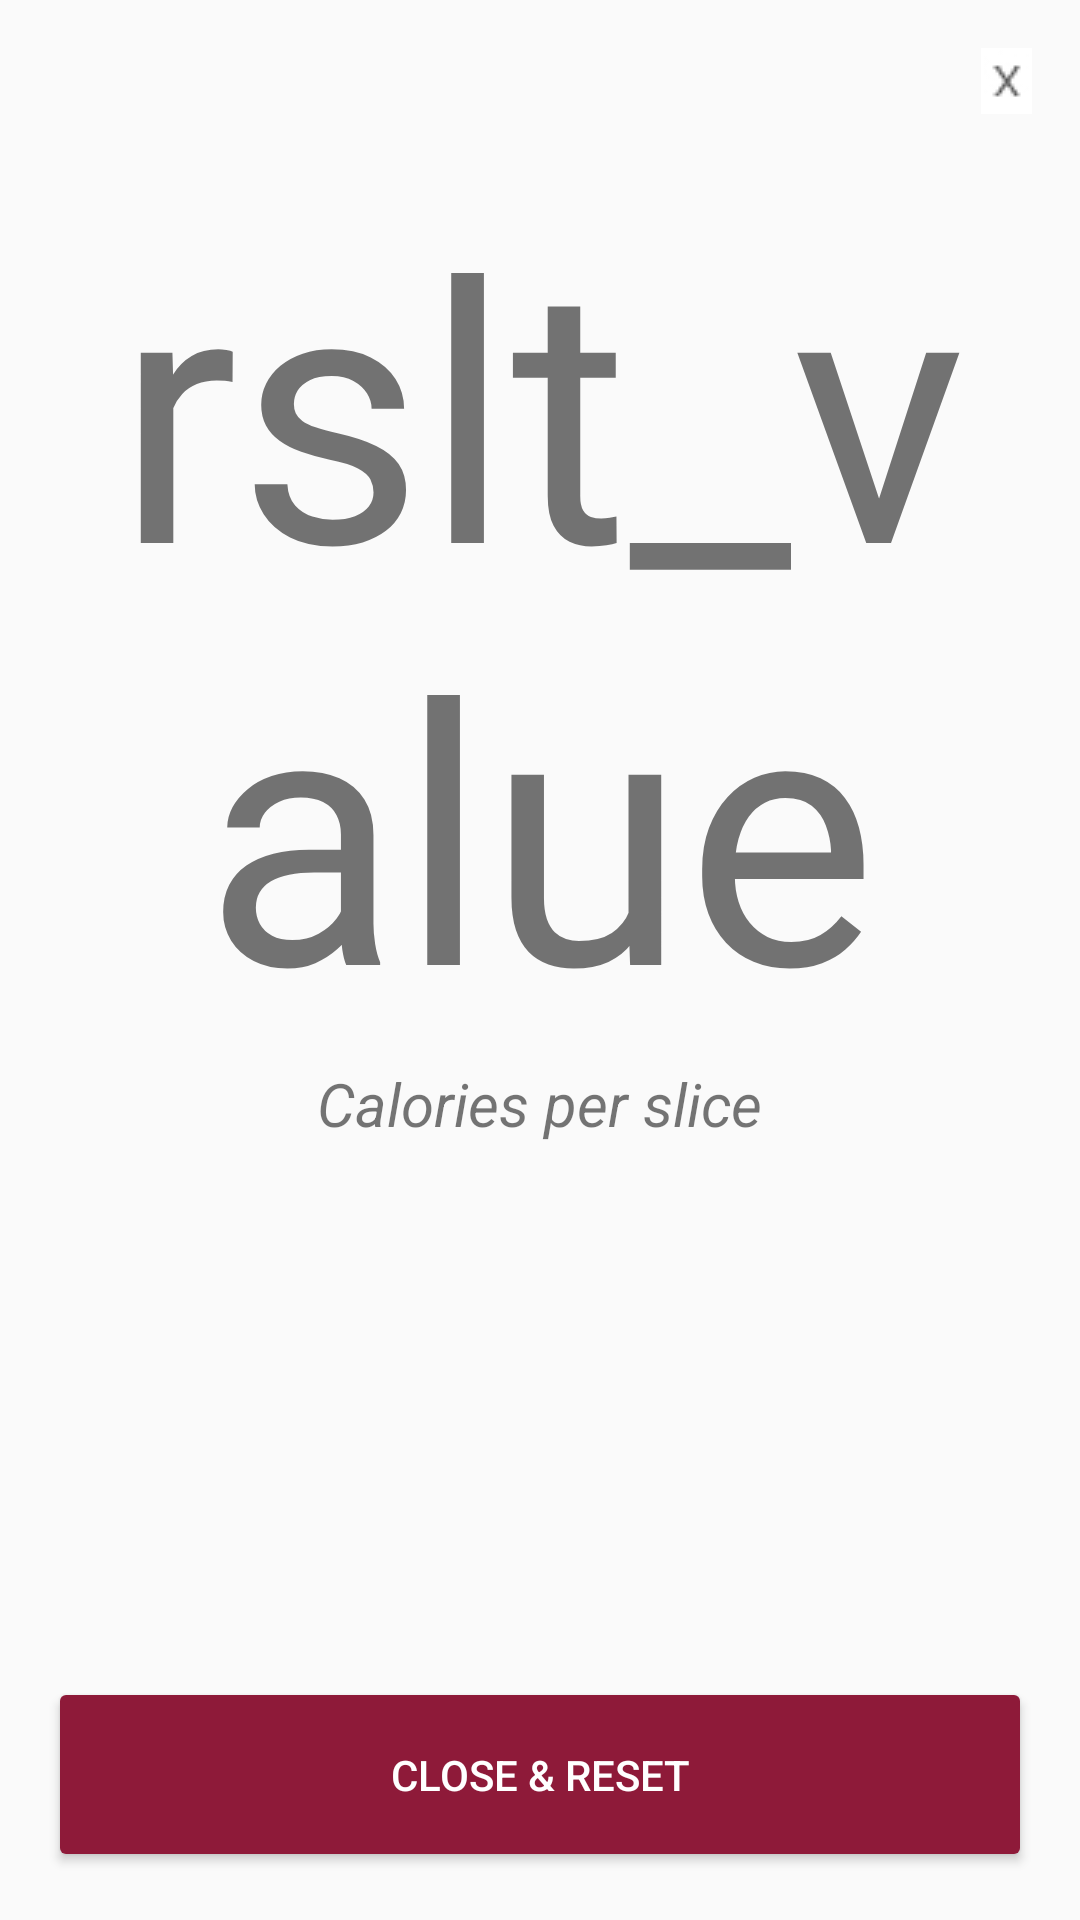

Named icons in this screenshot (1080 × 1920) and their bounding boxes, (x1, y1, x2, y2):
close: (993, 65, 1021, 97)
